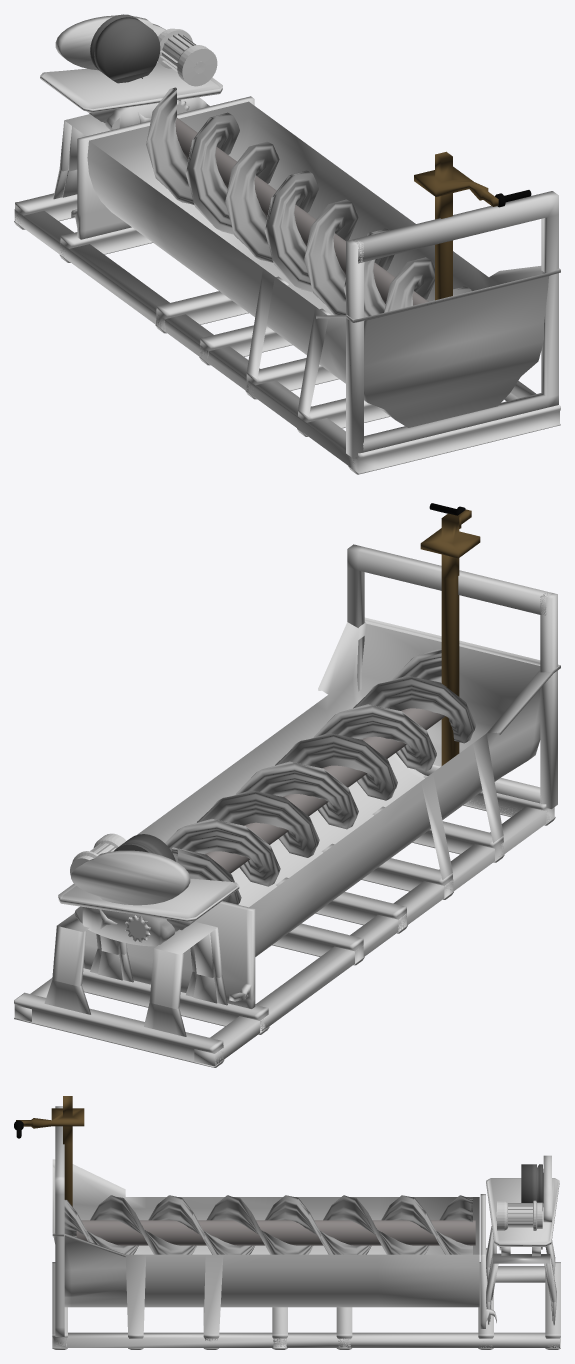
The model's file is спиральный классификатор 1.fbx.
3 renders of one model, top to bottom at view 1: azimuth 30°, elevation 25°; view 2: azimuth 150°, elevation 25°; view 3: azimuth 270°, elevation 25°, orthographic. The views are drawn at different scales.
Visible parts, largest first — view 1: Plane_003, Plane_010, Plane_004, Plane_005, Plane_009, Plane_011, Cylinder_007, Plane_008, Plane_007; view 2: Plane_003, Plane_010, Plane_004, Plane_005, Plane_007, Plane_011, Cylinder_007, Plane_009, Plane_008; view 3: Plane_003, Plane_010, Plane_004, Cylinder_007, Plane_005, Plane_007, Plane_011, Plane_008, Plane_009.
Part boxes in pixels (<box>): Plane_003: <box>15,96,560,473</box>; Plane_010: <box>14,191,560,474</box>; Plane_004: <box>146,87,471,317</box>; Plane_005: <box>40,15,222,130</box>; Plane_009: <box>90,14,160,83</box>; Plane_011: <box>414,151,498,300</box>; Cylinder_007: <box>175,118,428,305</box>; Plane_008: <box>158,28,217,86</box>; Plane_007: <box>53,103,209,199</box>; Plane_003: <box>14,593,560,1067</box>; Plane_010: <box>14,544,555,1067</box>; Plane_004: <box>165,648,475,904</box>; Plane_005: <box>58,850,239,946</box>; Plane_007: <box>44,913,227,1036</box>; Plane_011: <box>420,509,480,765</box>; Cylinder_007: <box>205,708,445,873</box>; Plane_009: <box>114,834,175,861</box>; Plane_008: <box>70,833,126,875</box>; Plane_003: <box>52,1106,560,1349</box>; Plane_010: <box>52,1126,560,1349</box>; Plane_004: <box>64,1195,472,1254</box>; Cylinder_007: <box>76,1220,475,1245</box>; Plane_005: <box>486,1155,559,1256</box>; Plane_007: <box>486,1226,556,1325</box>; Plane_011: <box>16,1096,84,1235</box>; Plane_008: <box>496,1200,542,1230</box>; Plane_009: <box>521,1164,543,1210</box>.
Size of the model in its own units: 5.51 by 7.34 by 17.04.
